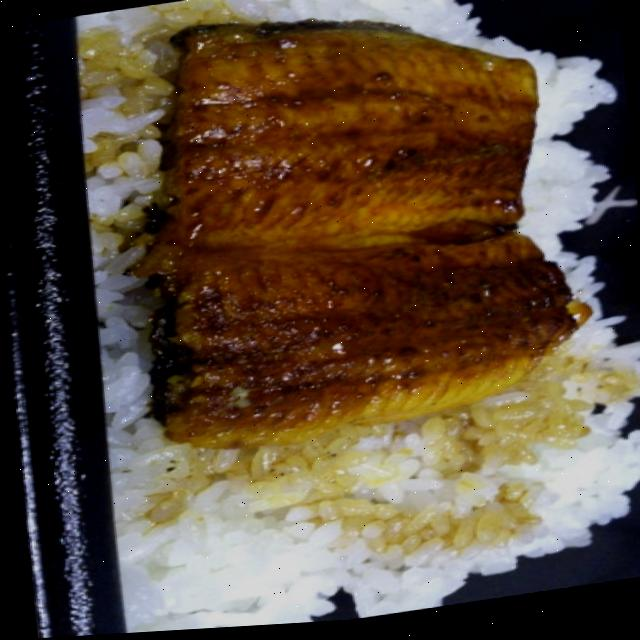熟制海鲜: (51, 0, 640, 638)
